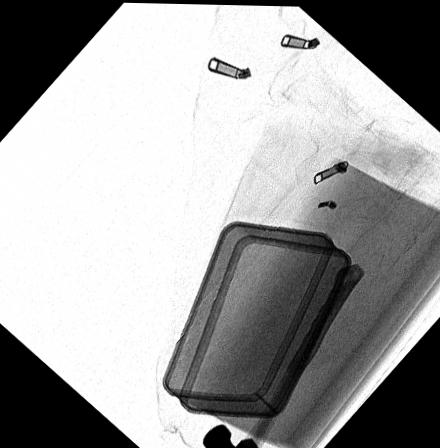Hammer: (201, 260, 365, 448)
